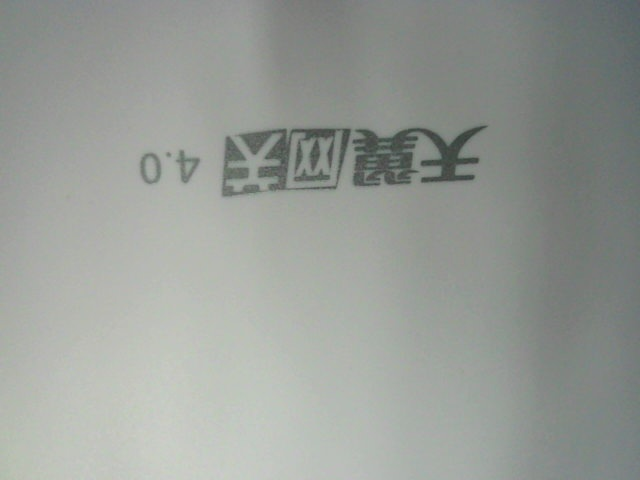BM_TianYiWangGuan: (132, 107, 501, 193)
